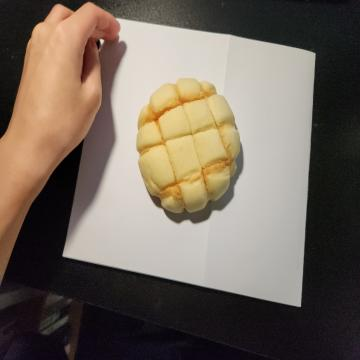melon_bread: (137, 79, 241, 218)
